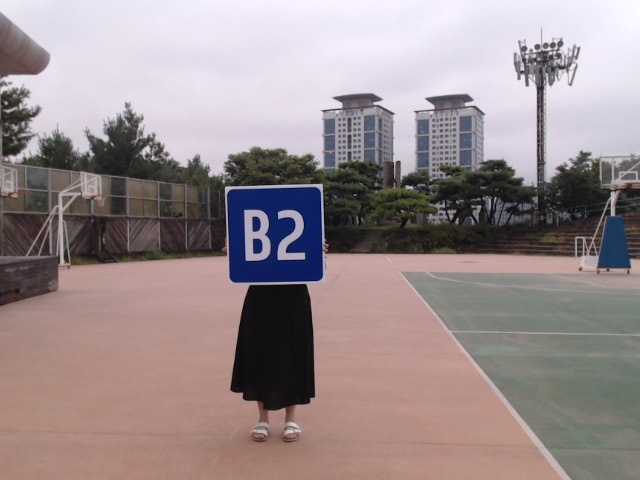delivery_b2: (226, 185, 325, 284)
